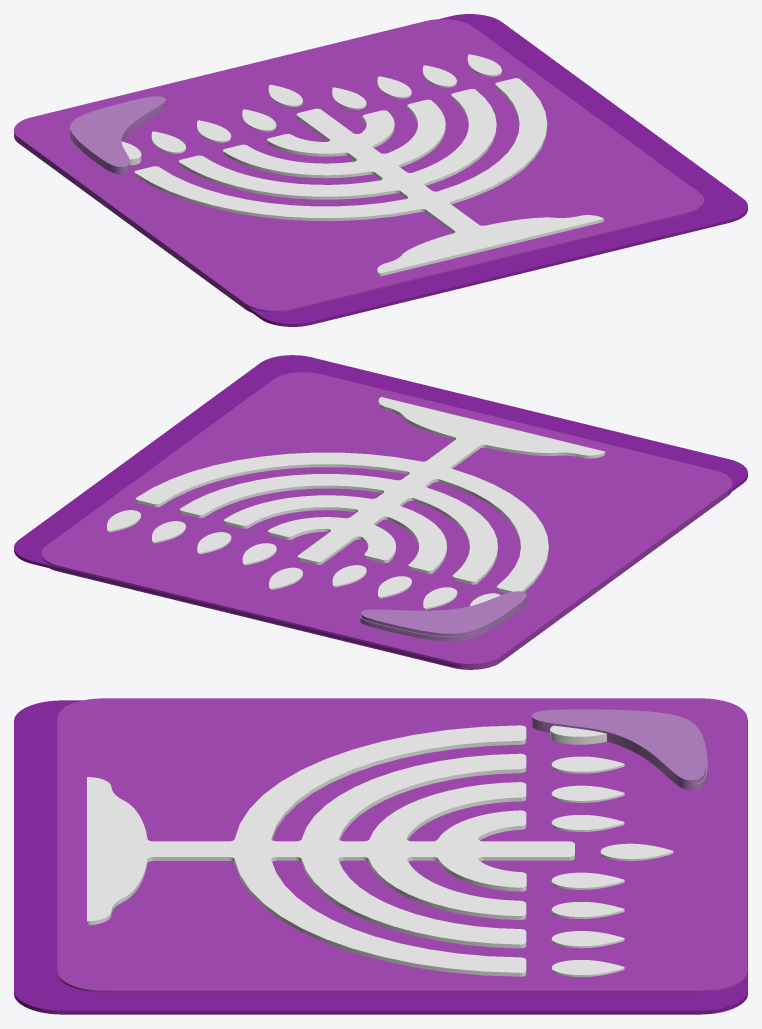
File: emoji_u1f54e.glb
The picture shows the model from 3 angles, top to bottom: view 1: azimuth 30°, elevation 25°; view 2: azimuth 150°, elevation 25°; view 3: azimuth 270°, elevation 25°; orthographic projection. The views are drawn at different scales.
Parts seen in each view (by area): view 1: emoji_u1f54e; view 2: emoji_u1f54e; view 3: emoji_u1f54e.
Part boxes in pixels (x1=…): emoji_u1f54e: x1=14, y1=14, x2=747, y2=326; emoji_u1f54e: x1=14, y1=355, x2=747, y2=669; emoji_u1f54e: x1=14, y1=698, x2=747, y2=1014.
Bounding box in the file's own units: 0.0339 × 0.0014 × 0.0339.
